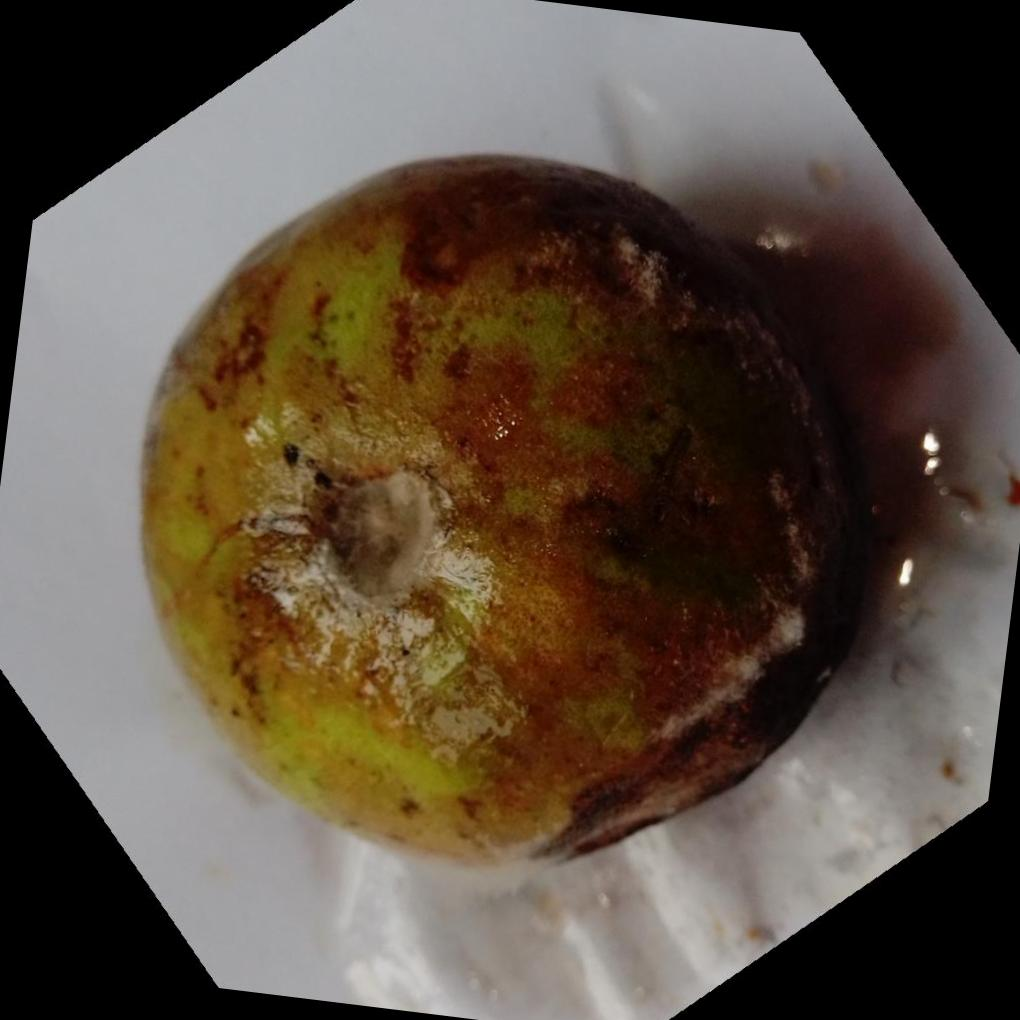FreshOrange: (138, 148, 885, 868)
